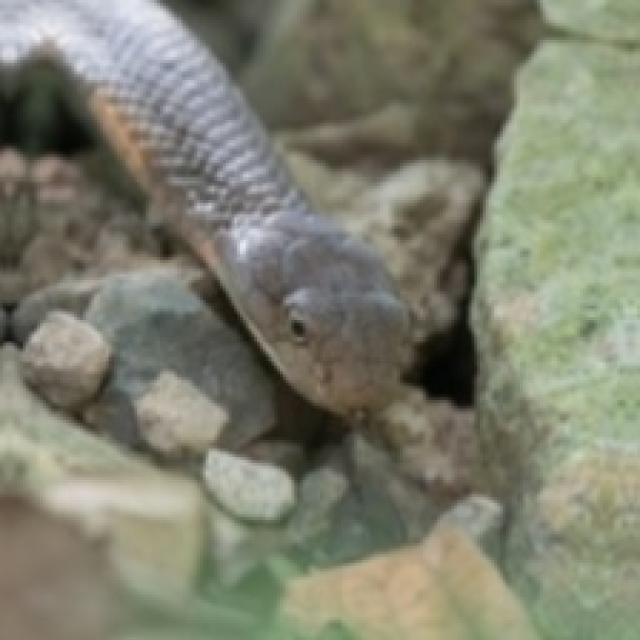king cobra: (0, 0, 483, 486), (0, 0, 406, 411)
